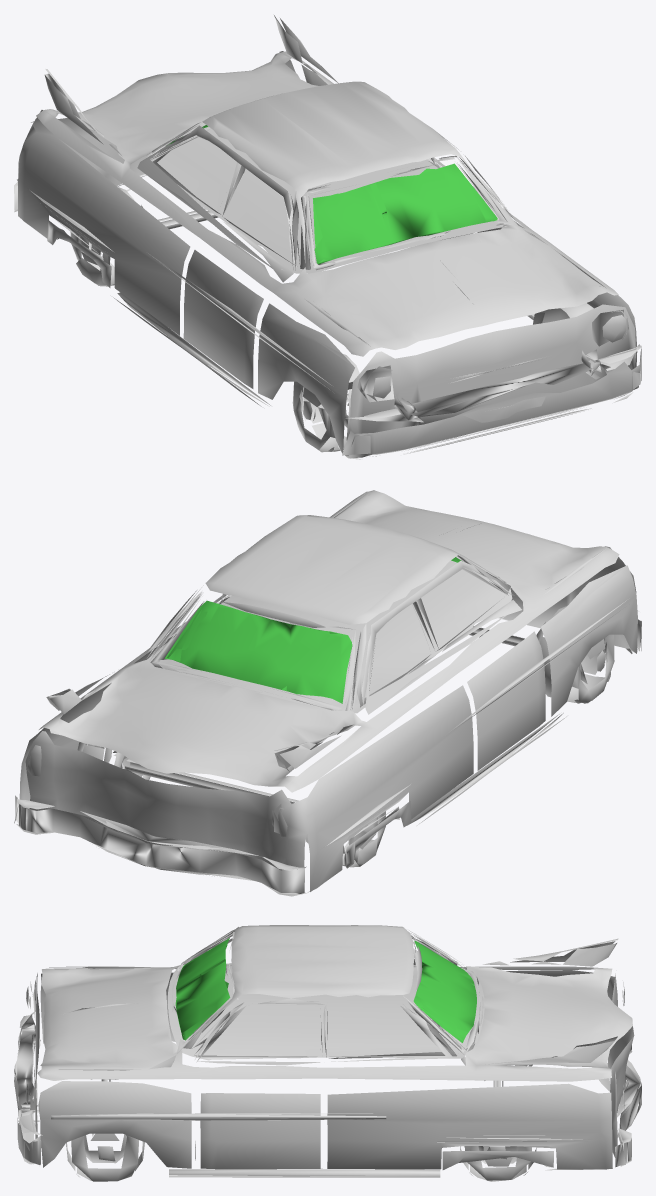
File: ToyCar_LOD2.obj
3 renders of one model, top to bottom at view 1: azimuth 30°, elevation 25°; view 2: azimuth 150°, elevation 25°; view 3: azimuth 270°, elevation 25°, orthographic. The views are drawn at different scales.
Parts seen in each view (by area): view 1: ToyCar_Body_m0, ToyCar_Body_m2, ToyCar_Wheel_FL_m0, ToyCar_Wheel_RL_m0, ToyCar_Wheel_FR_m0; view 2: ToyCar_Body_m0, ToyCar_Body_m2, ToyCar_Wheel_FL_m0, ToyCar_Wheel_RL_m0, ToyCar_Wheel_RR_m0; view 3: ToyCar_Body_m0, ToyCar_Body_m2, ToyCar_Wheel_FR_m0, ToyCar_Wheel_RR_m0.
Boxes of the visible parts, box(x1,y1,x2,y2) form: ToyCar_Body_m0: box(14, 15, 641, 459); ToyCar_Body_m2: box(167, 125, 497, 264); ToyCar_Wheel_FL_m0: box(292, 354, 359, 452); ToyCar_Wheel_RL_m0: box(70, 187, 142, 286); ToyCar_Wheel_FR_m0: box(533, 303, 593, 324); ToyCar_Body_m0: box(14, 490, 641, 896); ToyCar_Body_m2: box(164, 557, 462, 703); ToyCar_Wheel_FL_m0: box(536, 605, 614, 703); ToyCar_Wheel_RL_m0: box(306, 811, 385, 867); ToyCar_Wheel_RR_m0: box(77, 742, 150, 779); ToyCar_Body_m0: box(14, 925, 641, 1177); ToyCar_Body_m2: box(175, 938, 476, 1042); ToyCar_Wheel_FR_m0: box(66, 1133, 144, 1181); ToyCar_Wheel_RR_m0: box(460, 1146, 536, 1181).
Bounding box in the file's own units: 0.0187 × 0.0115 × 0.0383.
